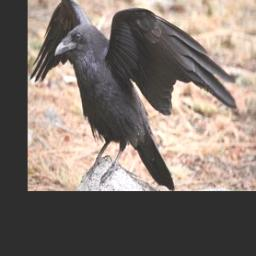Crow: (29, 0, 239, 188)
